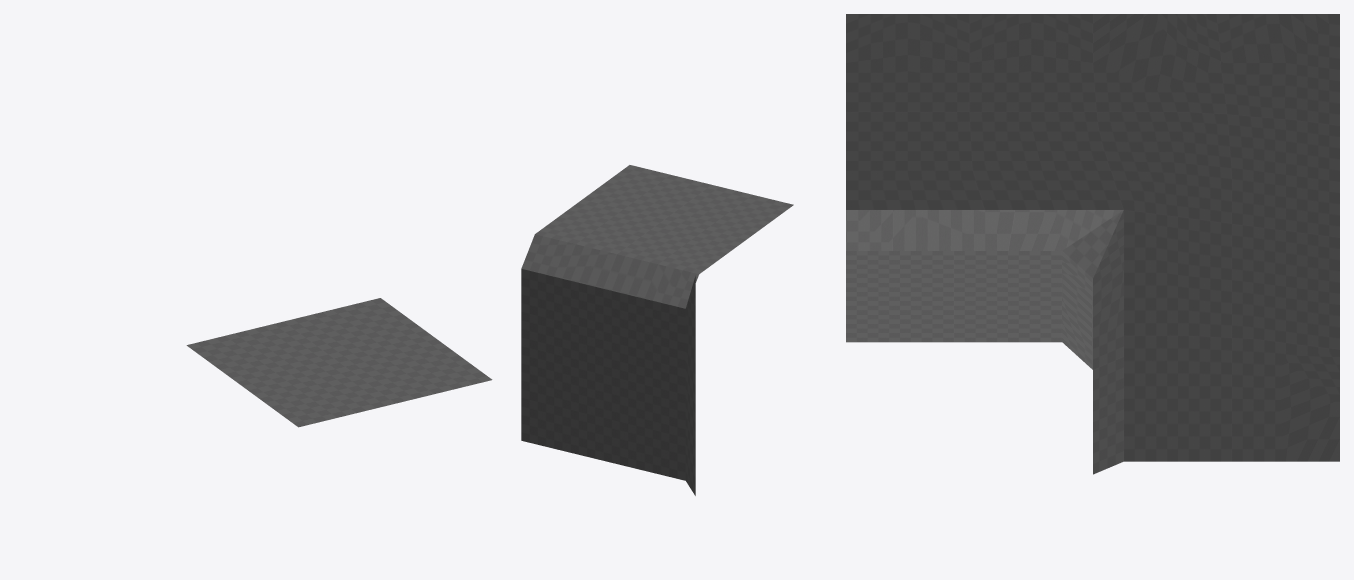
3 renders of one model, left to right at view 1: azimuth 30°, elevation 25°; view 2: azimuth 150°, elevation 25°; view 3: azimuth 270°, elevation 25°, orthographic. The views are drawn at different scales.
Visible parts, largest first — view 1: 0; view 2: 0; view 3: 0.
Part boxes in pixels (x1,y1,x2,y2): 0: (186, 298, 492, 427); 0: (521, 165, 793, 495); 0: (846, 14, 1339, 474).
Bounding box in the file's own units: 2 × 4 × 4.
1 material, 1 textured.
